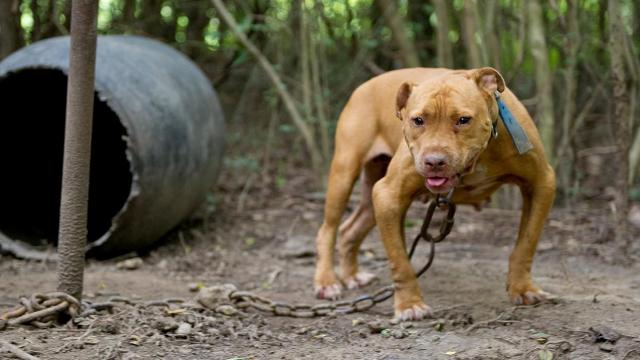dog: (314, 61, 552, 322)
